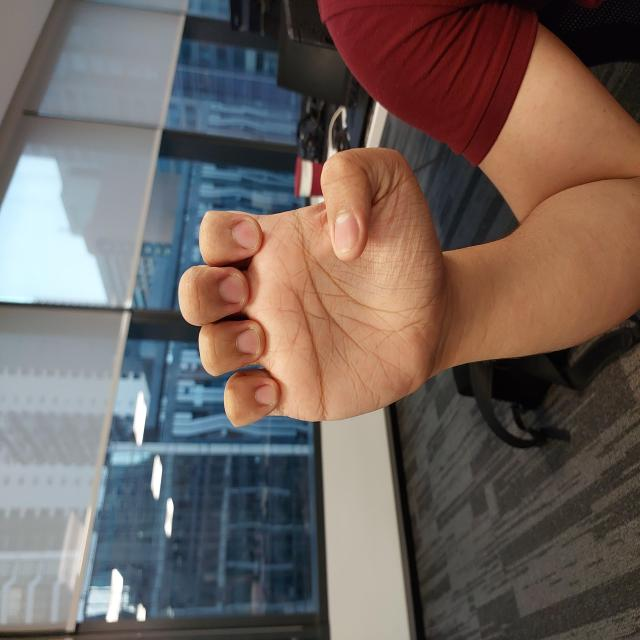E: (218, 176, 498, 456)
